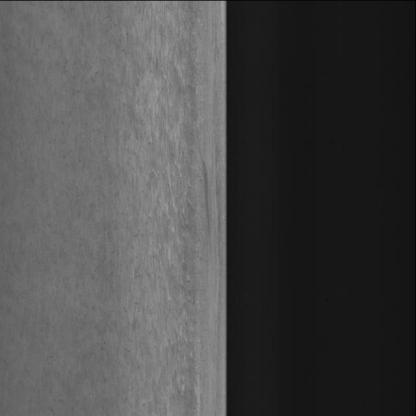silk_spot: (108, 15, 204, 404)
